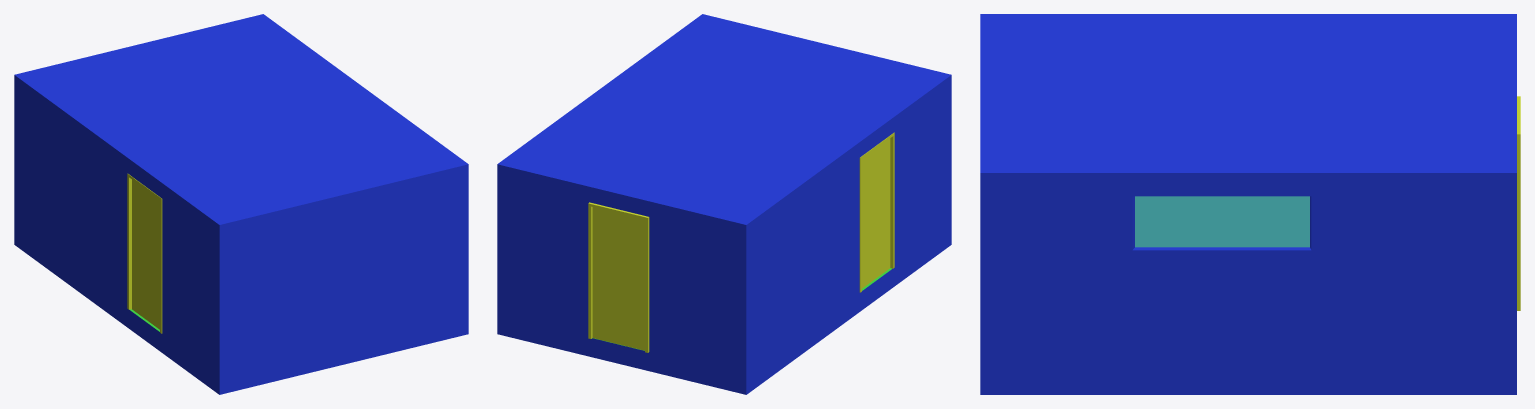
File: kitchen2.fbx
3 views of the same model, side by side, from view 1: azimuth 30°, elevation 25°; view 2: azimuth 150°, elevation 25°; view 3: azimuth 270°, elevation 25° (orthographic). The views are drawn at different scales.
Parts seen in each view (by area): view 1: room, RoomDoor.001, RoomDoorFrame.001; view 2: room, RoomDoor, RoomDoor.001, RoomDoorFrame, RoomDoorFrame.001; view 3: room, RoomDoorFrame.
Boxes of the visible parts, x1,y1,x2,y2 form: room: (14, 14, 468, 394); RoomDoor.001: (132, 179, 159, 329); RoomDoorFrame.001: (127, 173, 162, 333); room: (497, 14, 951, 394); RoomDoor: (592, 207, 644, 350); RoomDoor.001: (862, 138, 890, 288); RoomDoorFrame: (588, 202, 649, 352); RoomDoorFrame.001: (859, 132, 894, 292); room: (980, 14, 1516, 394); RoomDoorFrame: (1517, 96, 1520, 310).
Bounding box in the file's own units: 2716 × 1767 × 3895.
